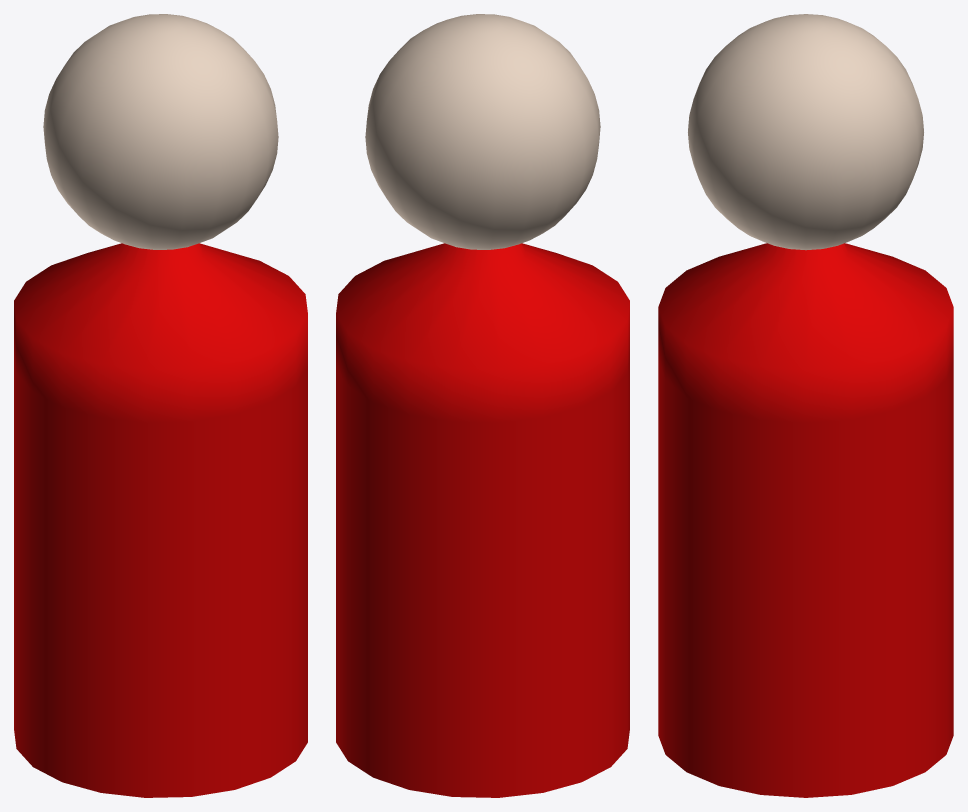
Rendered from P_narissa.fbx.
3 views of the same model, side by side, from view 1: azimuth 30°, elevation 25°; view 2: azimuth 150°, elevation 25°; view 3: azimuth 270°, elevation 25° (orthographic).
Visible parts, largest first — view 1: pCylinder2; view 2: pCylinder2; view 3: pCylinder2.
Part boxes in pixels (x1,y1,x2,y2): pCylinder2: (14,14,307,797); pCylinder2: (336,14,629,797); pCylinder2: (658,14,953,797).
Size of the model in its own units: 100 by 265 by 100.
